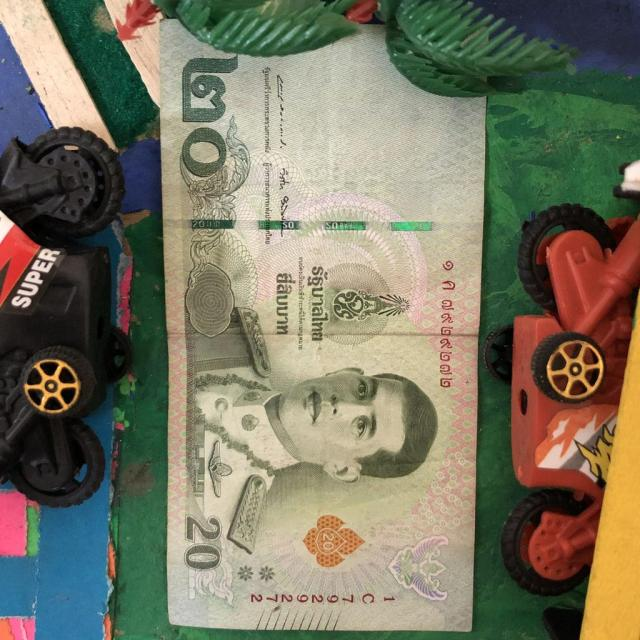THAI20: (158, 20, 485, 631)
